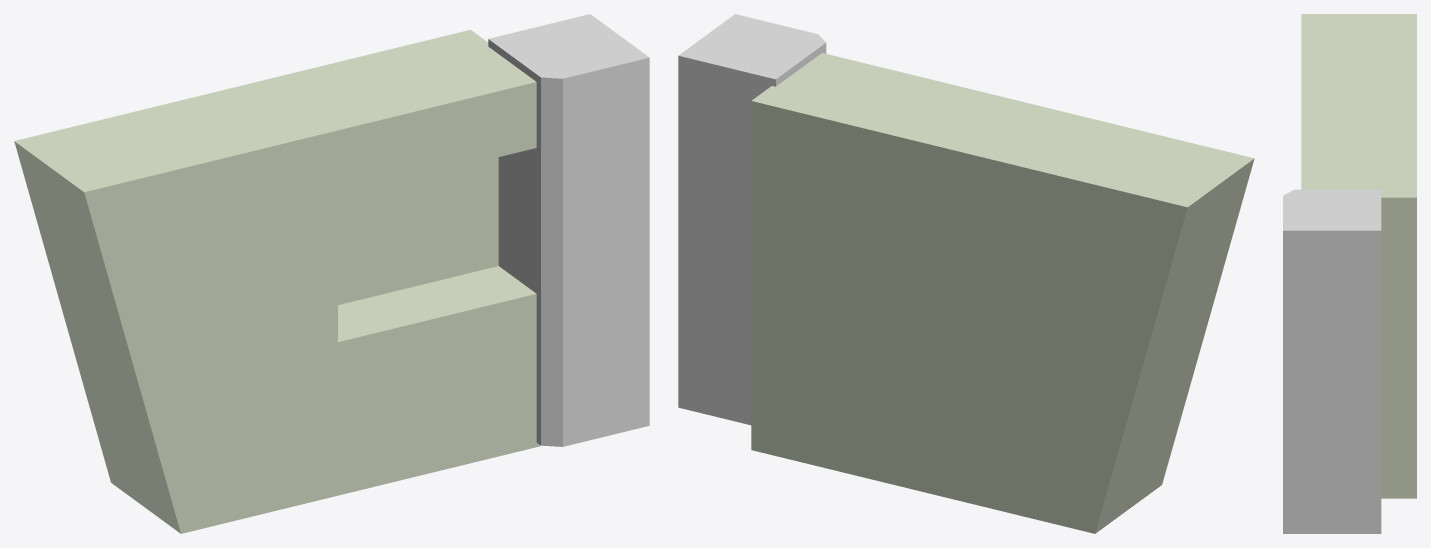
Rendered from pillar.fbx.
3 views of the same model, side by side, from view 1: azimuth 30°, elevation 25°; view 2: azimuth 150°, elevation 25°; view 3: azimuth 270°, elevation 25° (orthographic). The views are drawn at different scales.
Parts seen in each view (by area): view 1: WALL RIGHT, pillar; view 2: WALL RIGHT, pillar; view 3: pillar, WALL RIGHT.
Part boxes in pixels (x1=…): WALL RIGHT: x1=14, y1=29, x2=540, y2=533; pillar: x1=488, y1=14, x2=649, y2=446; WALL RIGHT: x1=751, y1=53, x2=1254, y2=533; pillar: x1=678, y1=14, x2=826, y2=425; pillar: x1=1283, y1=189, x2=1381, y2=533; WALL RIGHT: x1=1301, y1=14, x2=1416, y2=498.
Size of the model in its own units: 5.77 by 3.71 by 1.46.
